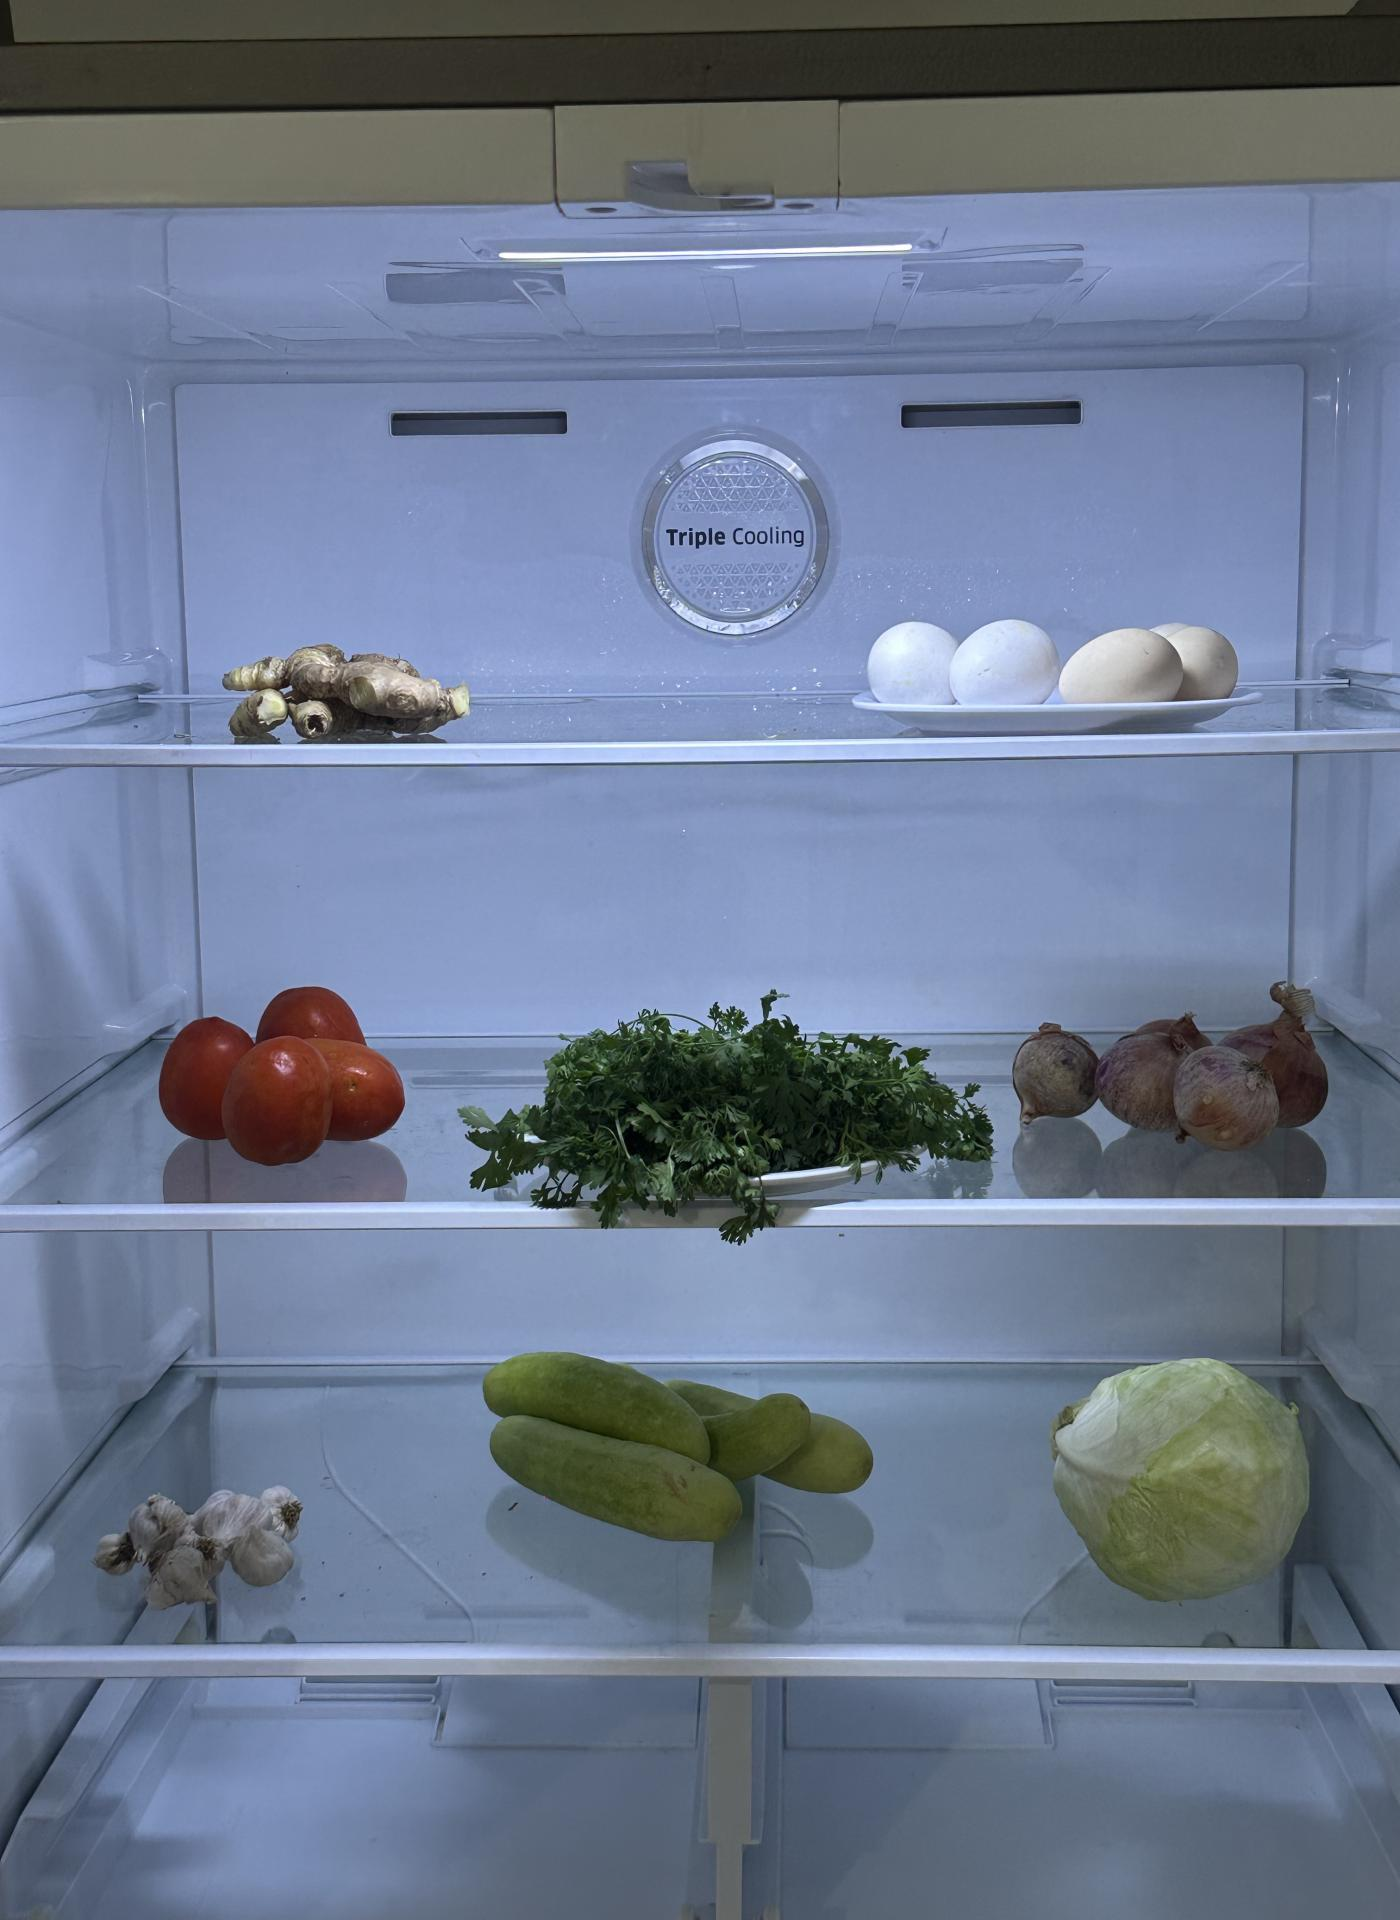cabbage: (1056, 1362, 1318, 1608)
coriander: (485, 1000, 984, 1201)
cucumber: (476, 1345, 874, 1543)
egg: (856, 614, 1245, 720)
garlic: (101, 1474, 315, 1610)
ginger: (219, 638, 471, 748)
onion: (1020, 996, 1324, 1154)
tomato: (161, 981, 416, 1169)
